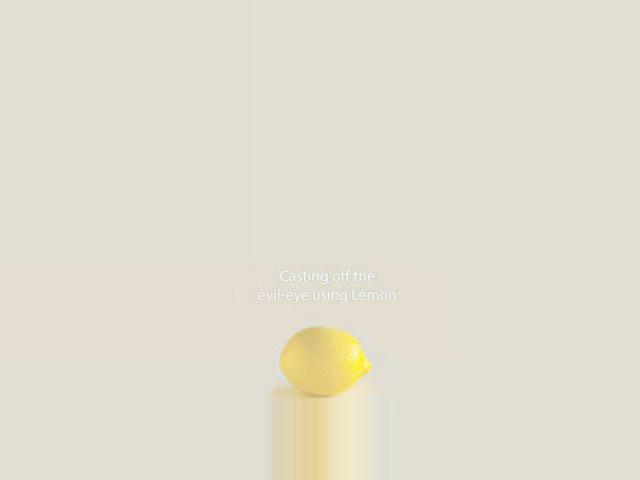lemon: (270, 319, 383, 393)
